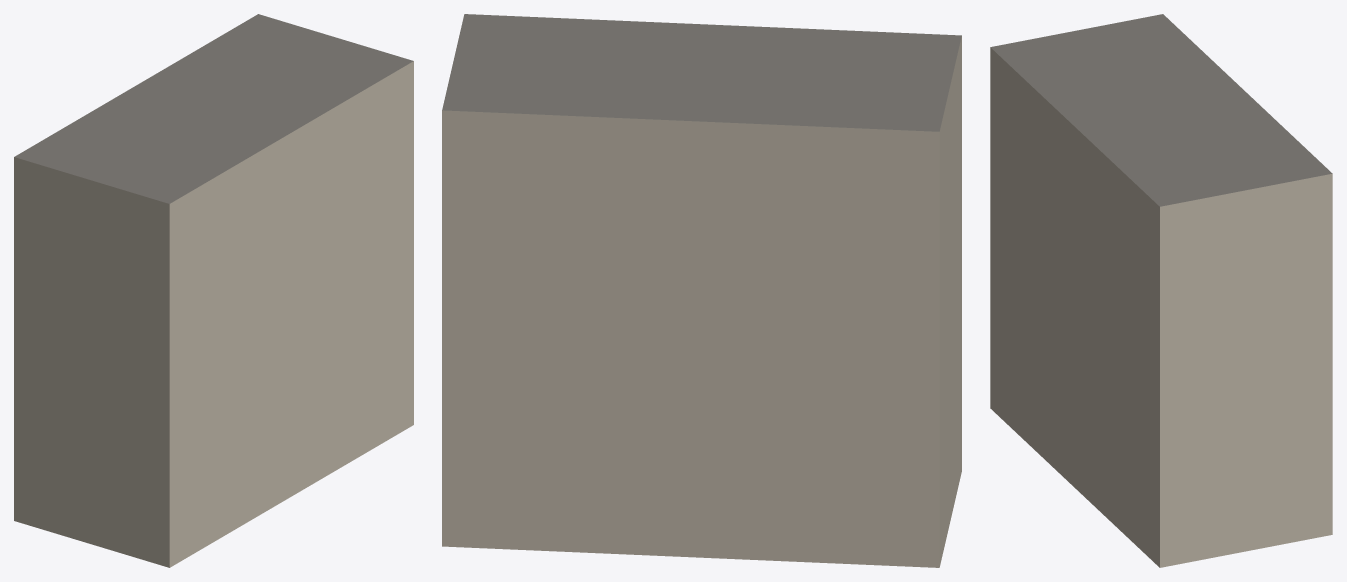
The picture shows the model from 3 angles, left to right: view 1: azimuth 30°, elevation 25°; view 2: azimuth 150°, elevation 25°; view 3: azimuth 270°, elevation 25°; orthographic projection. The views are drawn at different scales.
Parts seen in each view (by area): view 1: HP-w1198017517; view 2: HP-w1198017517; view 3: HP-w1198017517.
Boxes of the visible parts, left/top/right/bottom form: HP-w1198017517: left=14, top=14, right=413, bottom=567; HP-w1198017517: left=442, top=14, right=961, bottom=567; HP-w1198017517: left=990, top=14, right=1332, bottom=567.
Bounding box in the file's own units: 20.61 × 18 × 15.47.
